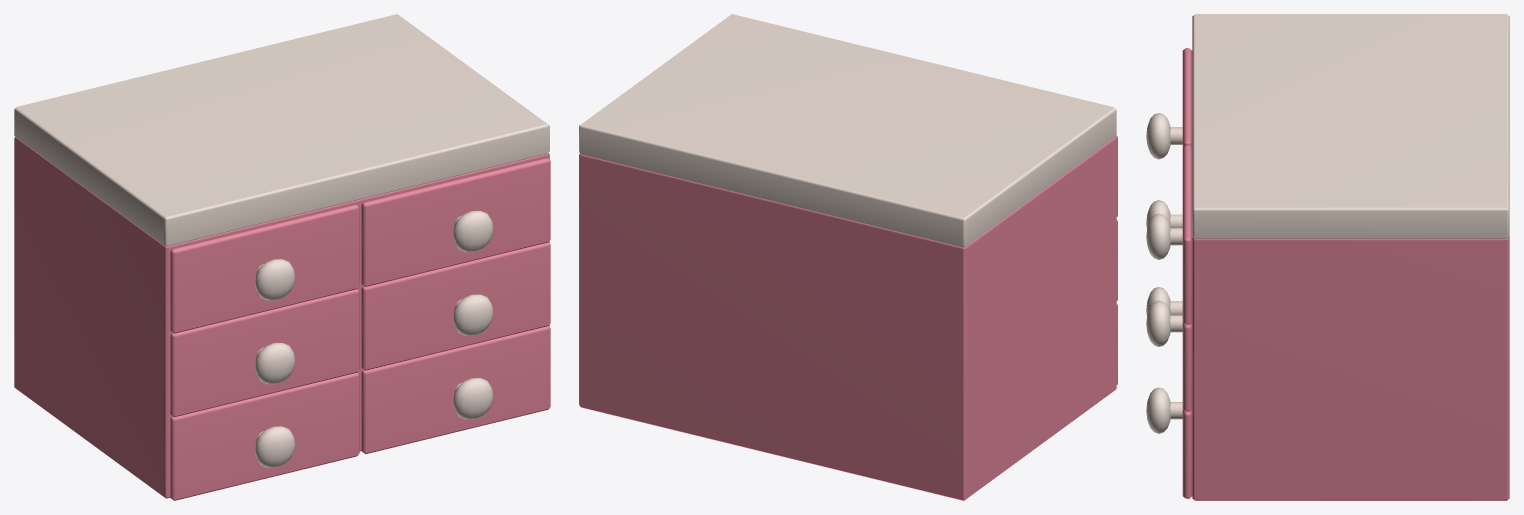
Rendered from Drawer_pink_1.glb.
3 renders of one model, left to right at view 1: azimuth 30°, elevation 25°; view 2: azimuth 150°, elevation 25°; view 3: azimuth 270°, elevation 25°, orthographic. The views are drawn at different scales.
Parts seen in each view (by area): view 1: Kitchen_Cabinet_3; view 2: Kitchen_Cabinet_3; view 3: Kitchen_Cabinet_3.
Boxes of the visible parts, x1=… form: Kitchen_Cabinet_3: x1=14, y1=14, x2=550, y2=500; Kitchen_Cabinet_3: x1=579, y1=14, x2=1117, y2=500; Kitchen_Cabinet_3: x1=1146, y1=14, x2=1509, y2=500.
Size of the model in its own units: 1.34 by 0.9396 by 1.05.
Materials: 1 (1 with a texture image).
